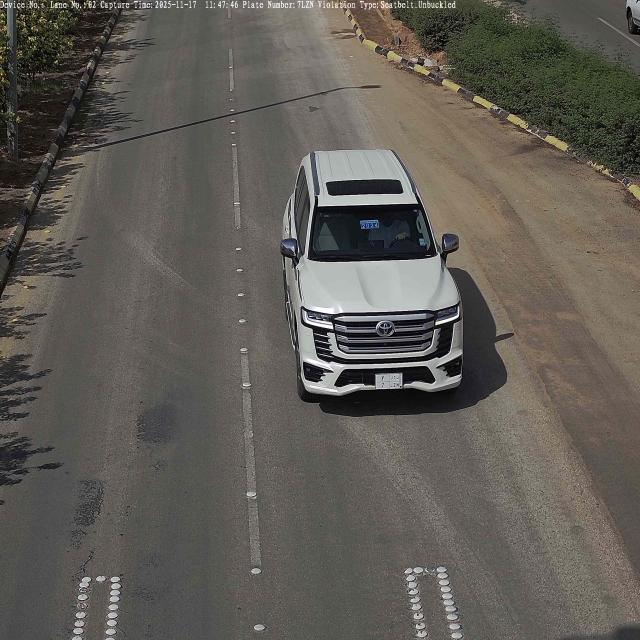person_without_seatbelt: (369, 208, 408, 250)
